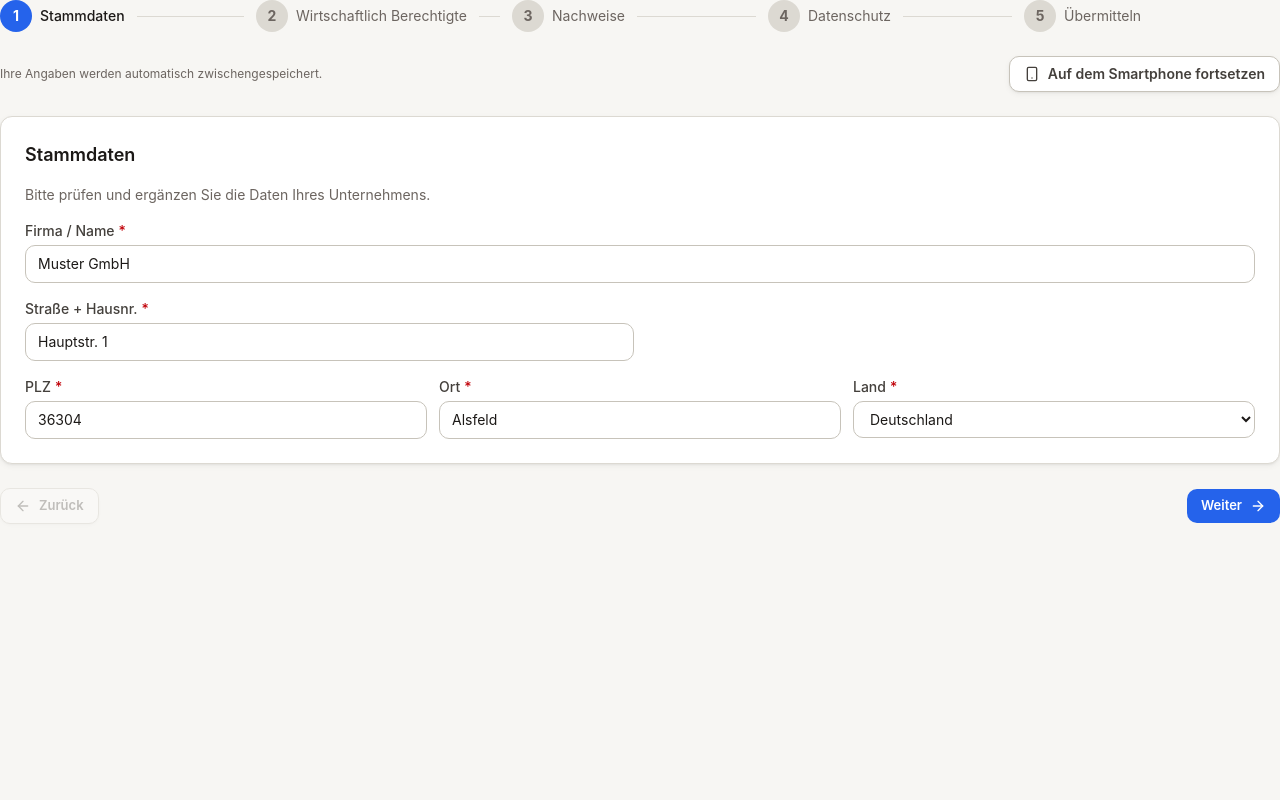
it: GwG-Onboarding – Personenübersicht › zeigt je Person den Stand und führt durch Ausweis, Angaben, Beteiligung und PEP
Click the button "Weiter": (1234, 506) x1=1187 y1=489 x2=1279 y2=522
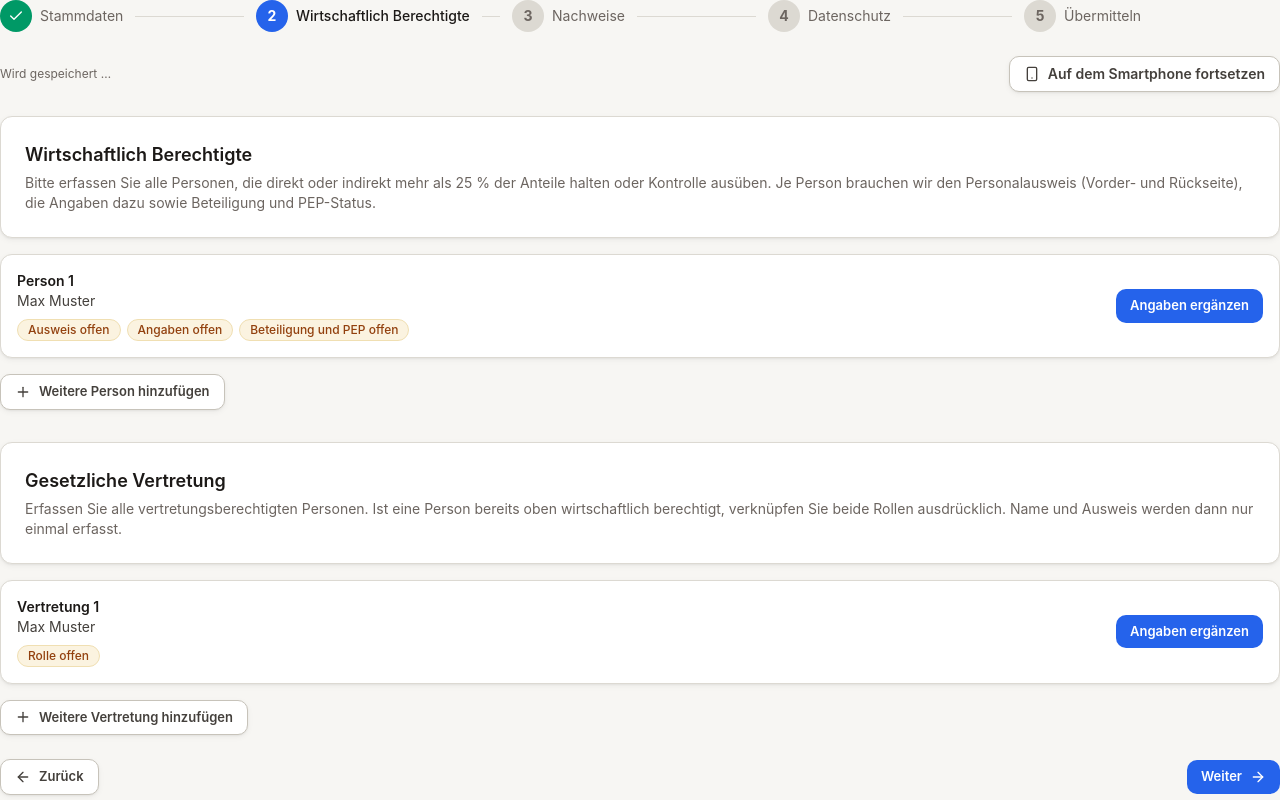
Click the 1st button "Angaben ergänzen": (1190, 306) x1=1116 y1=289 x2=1263 y2=323
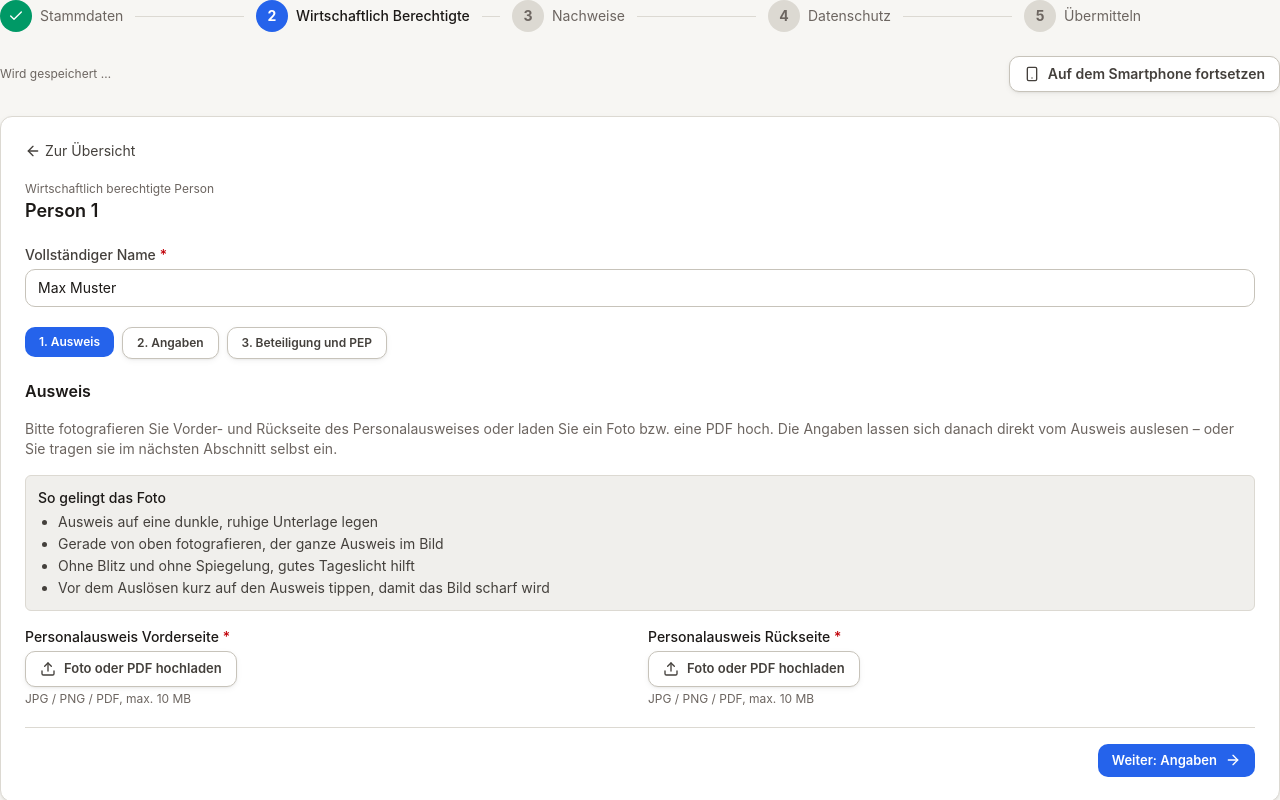
Expected: the field labelled "Geburtsort" is not shown
Now the heading "Ausweis" is shown, box x1=25 y1=381 x2=91 y2=401
Click the button "Weiter: Angaben": (1176, 760) x1=1098 y1=744 x2=1255 y2=777
(page scrolled)
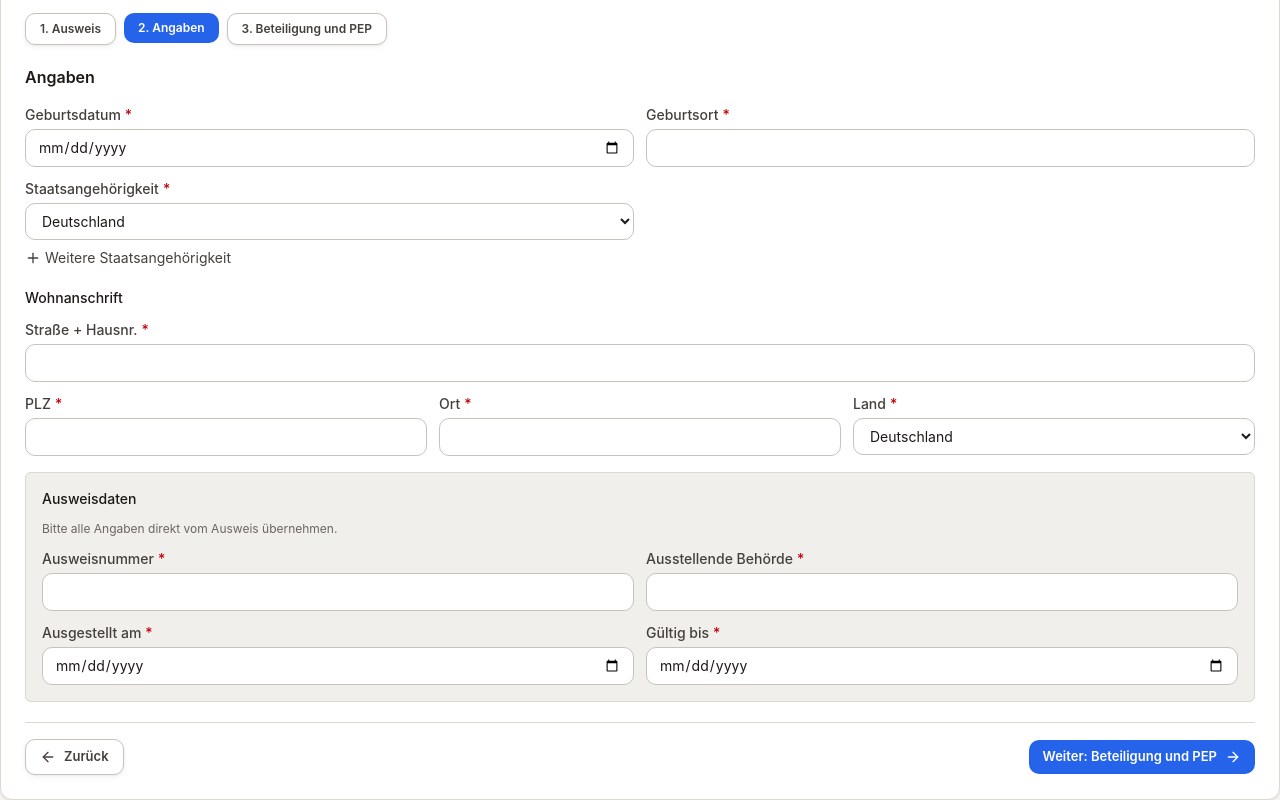
Now the field labelled "Geburtsort*" is shown, box x1=646 y1=129 x2=1255 y2=167
Click the button "Weiter: Beteiligung und PEP": (1142, 757) x1=1028 y1=740 x2=1255 y2=774
(page scrolled)
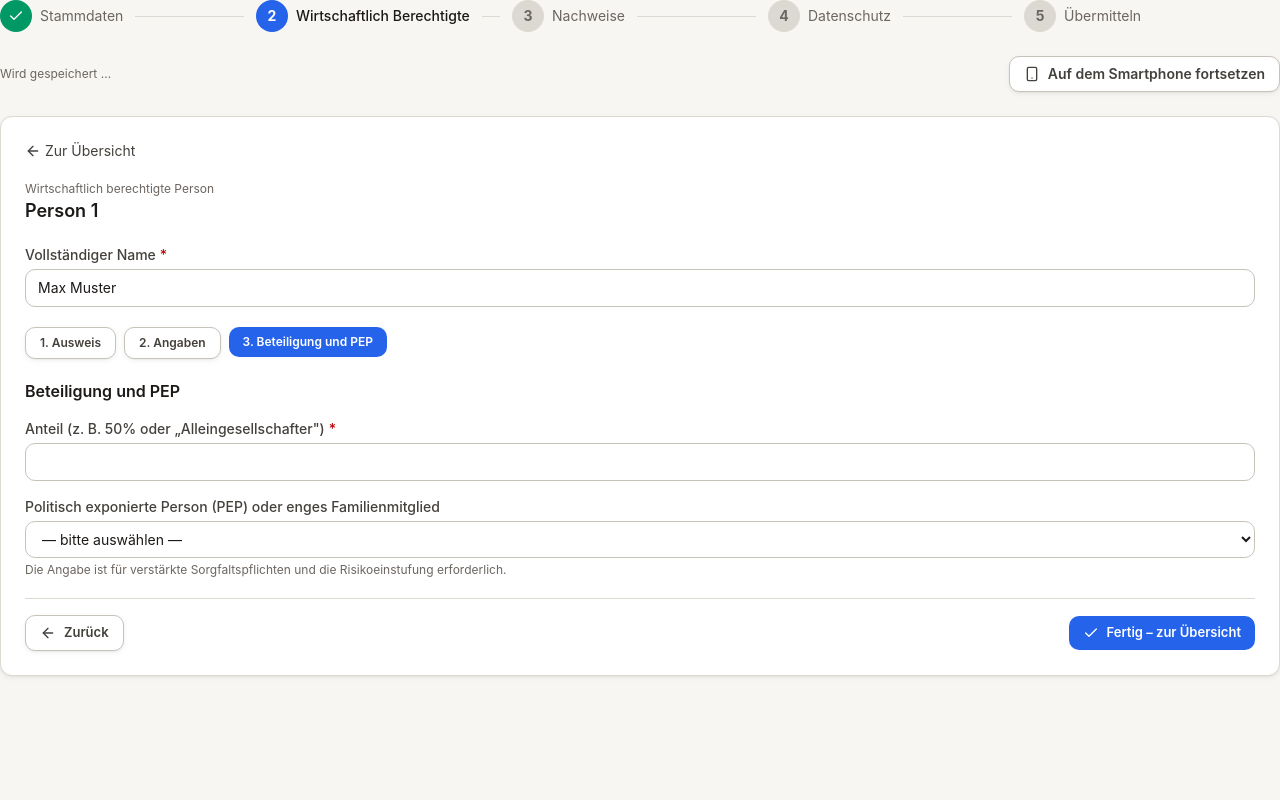
In the field labelled "Anteil (z. B. 50% oder „Alleingesellschafter\")*": (640, 462) x1=25 y1=443 x2=1255 y2=481, type "100%"
Select "Nein" in the dropdown labelled "Politisch exponierte Person": (640, 540) x1=25 y1=521 x2=1255 y2=558
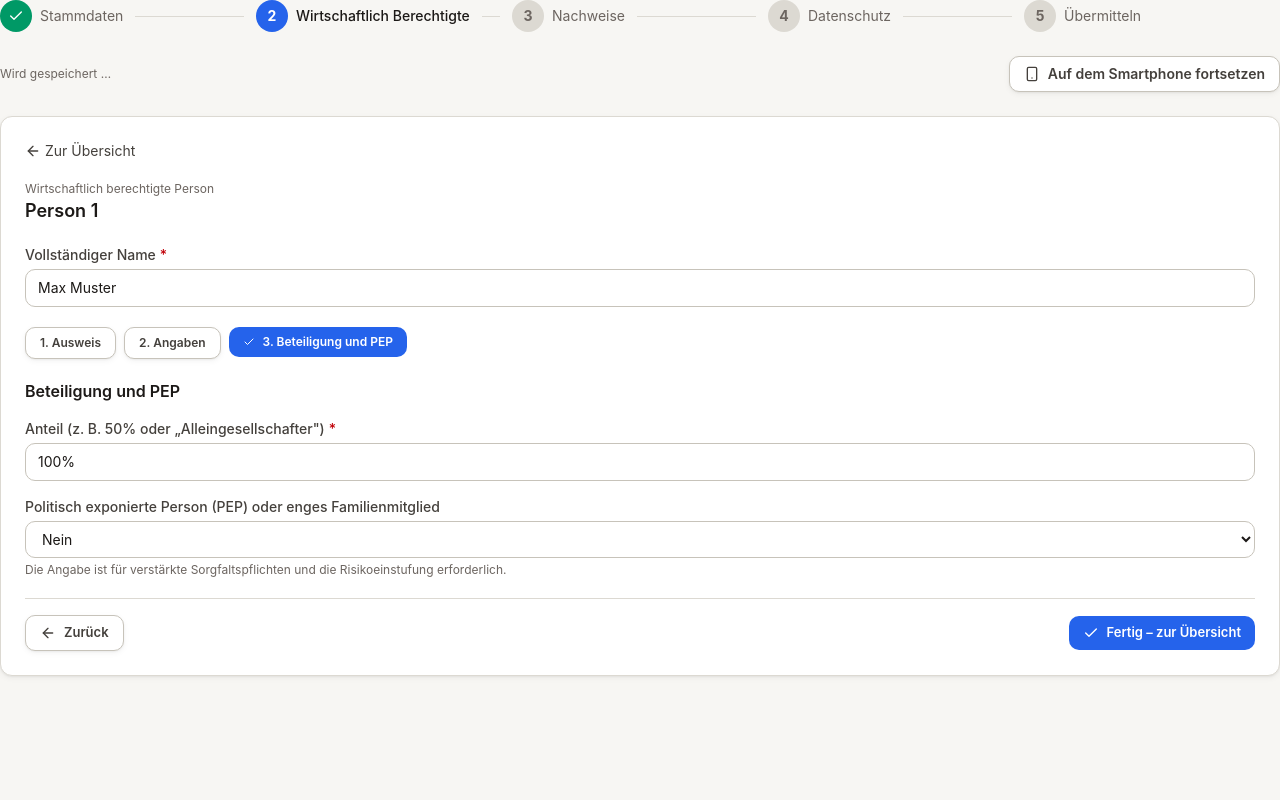
Click the button "Fertig – zur Übersicht": (1162, 633) x1=1069 y1=616 x2=1255 y2=650
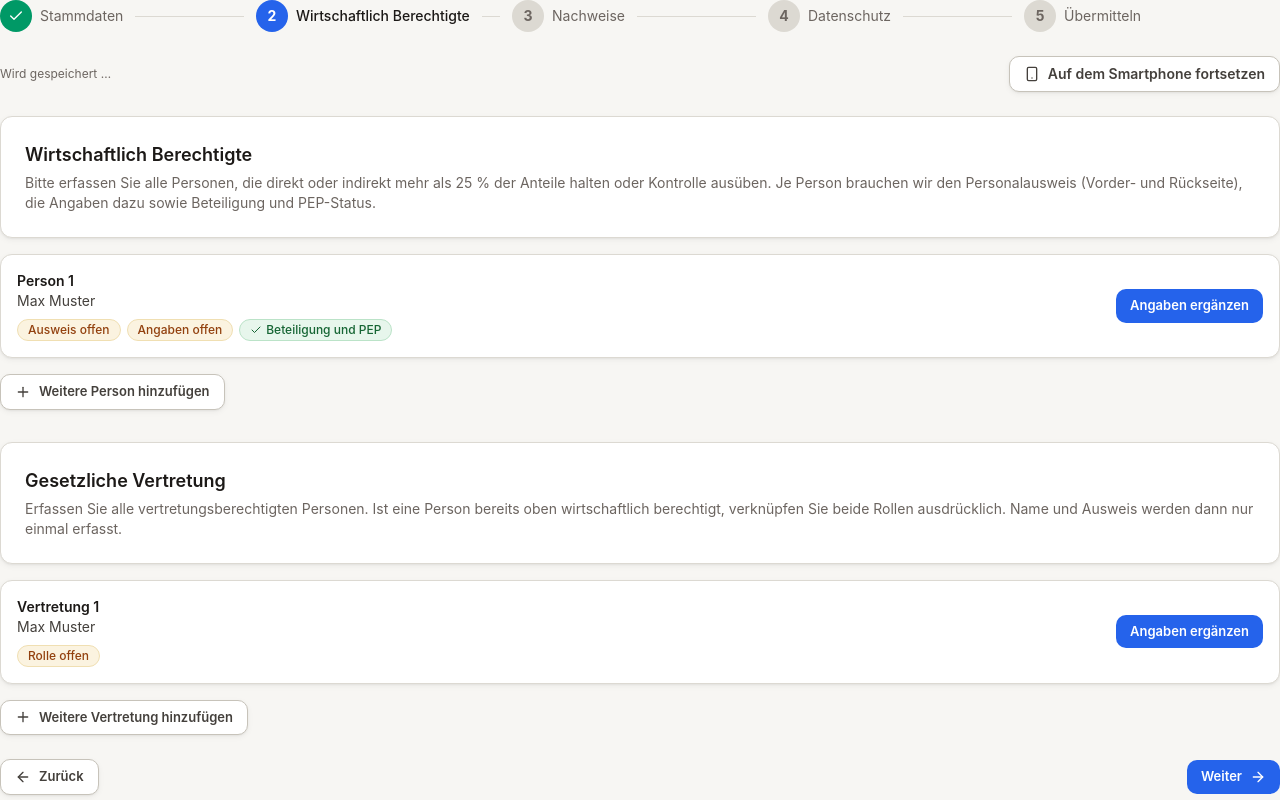
Now the button "Weiter" is shown, box x1=1187 y1=760 x2=1279 y2=794
